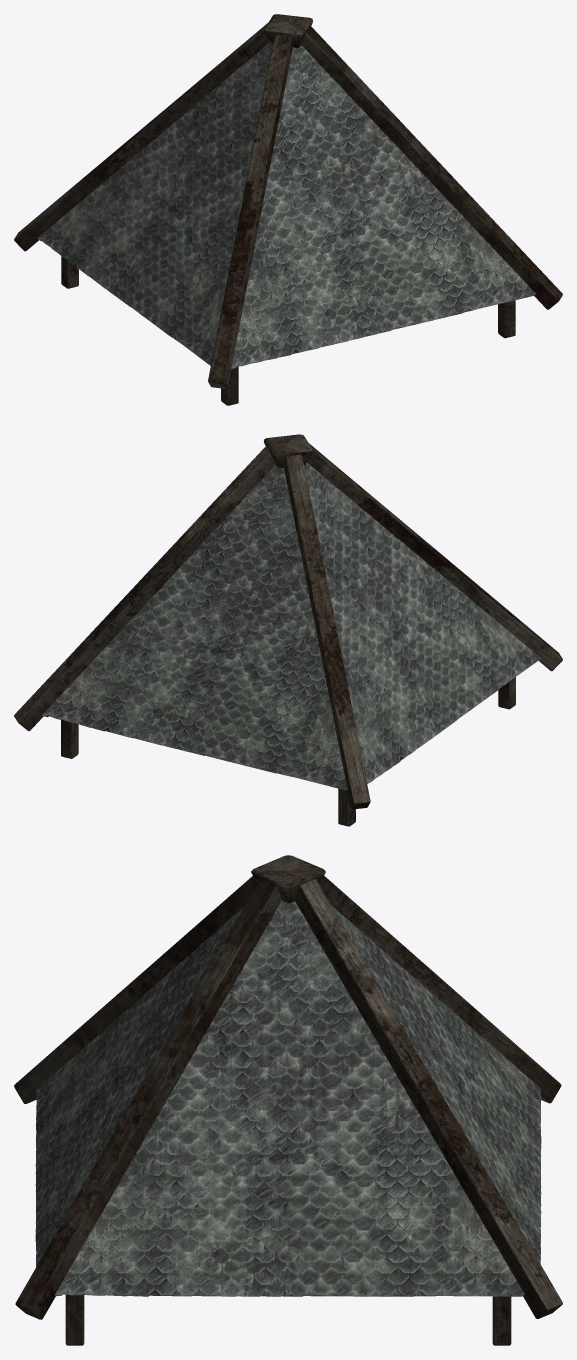
The model's file is TowerRoof_SquareHollow.fbx.
3 renders of one model, top to bottom at view 1: azimuth 30°, elevation 25°; view 2: azimuth 150°, elevation 25°; view 3: azimuth 270°, elevation 25°, orthographic. The views are drawn at different scales.
Visible parts, largest first — view 1: Square Pyramid Tower Roof Top Hollow; view 2: Square Pyramid Tower Roof Top Hollow; view 3: Square Pyramid Tower Roof Top Hollow.
Part boxes in pixels (<box>): Square Pyramid Tower Roof Top Hollow: <box>14,14,562,405</box>; Square Pyramid Tower Roof Top Hollow: <box>14,434,562,826</box>; Square Pyramid Tower Roof Top Hollow: <box>14,855,562,1345</box>.
Bounding box in the file's own units: 736 × 566 × 736.
